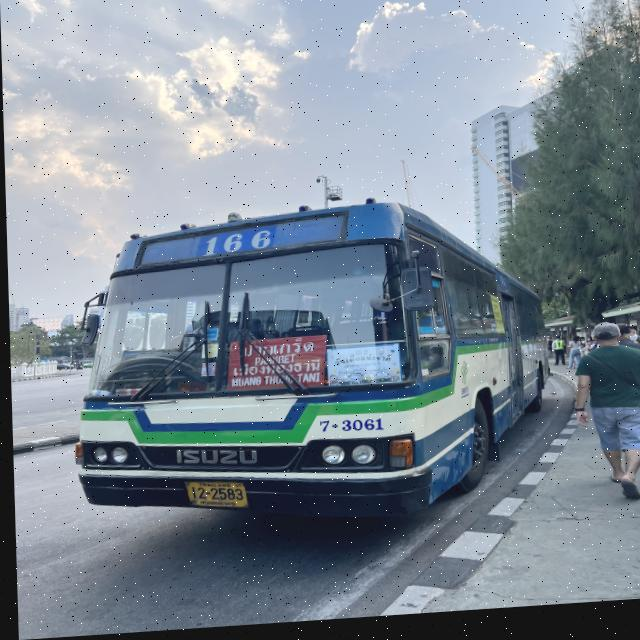BMTA-bus: (65, 197, 550, 542)
Bus-Line-Number: (194, 233, 278, 260)
Destination-Sign-Extra-Bus: (224, 335, 324, 397)
